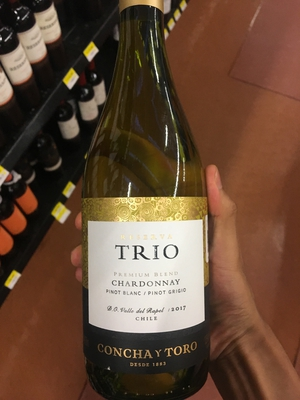trio chardonnay: (72, 12, 215, 400)
